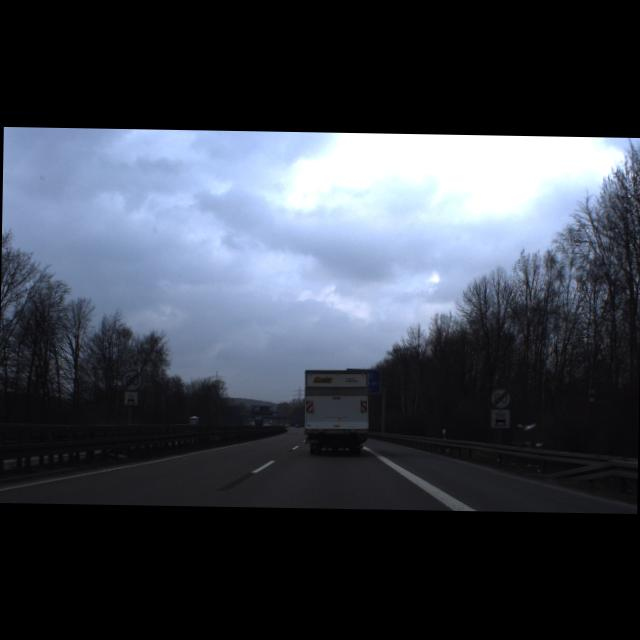other: (120, 369, 142, 390), (489, 388, 510, 408)
